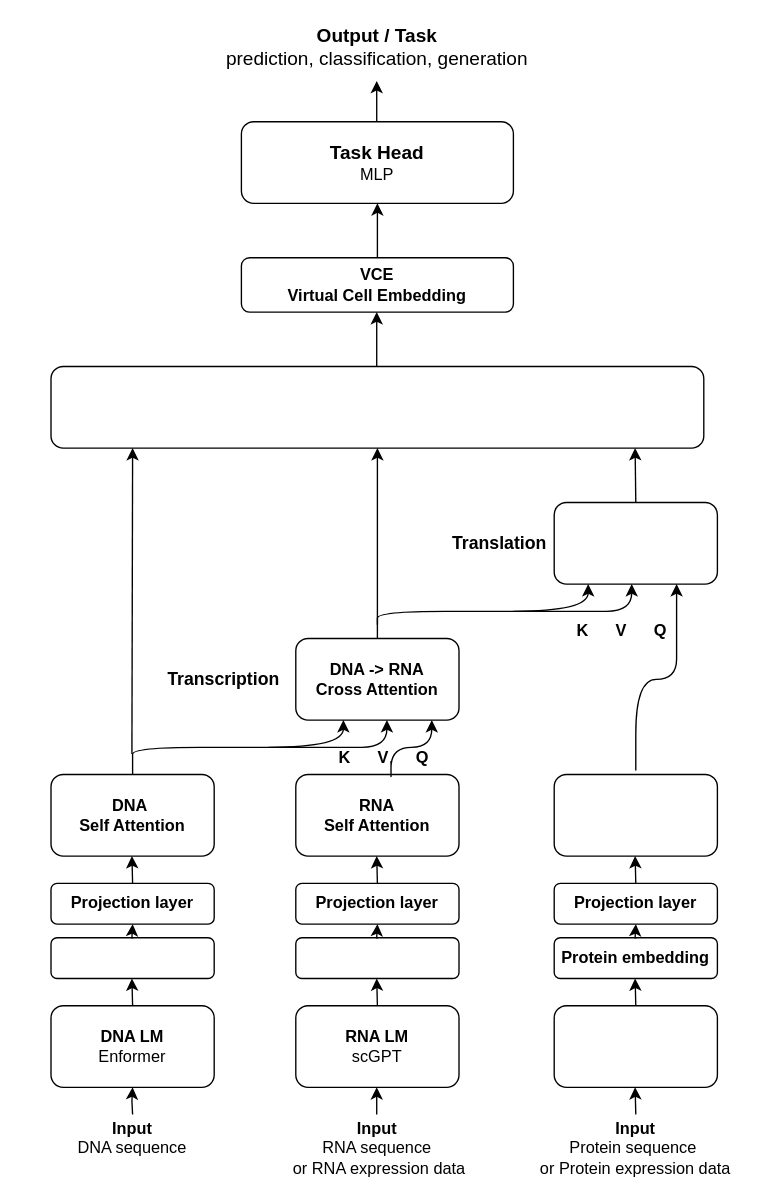
The diagram is 781 pixels wide and 1201 high, and some of its shapes have lost their labels. Each missing label, with the centre of its shape:
"DNA embedding" goes at [132,957].
"Protein LM ProteomeLM/EMS-C" goes at [635,1045].
"Protein Self Attention" goes at [635,814].
"RNA -> Protein Cross Attention" goes at [635,542].
"RNA embedding" goes at [376,957].
"Virtual Cell Embedder Attention pooling + MLP" goes at [377,406].
